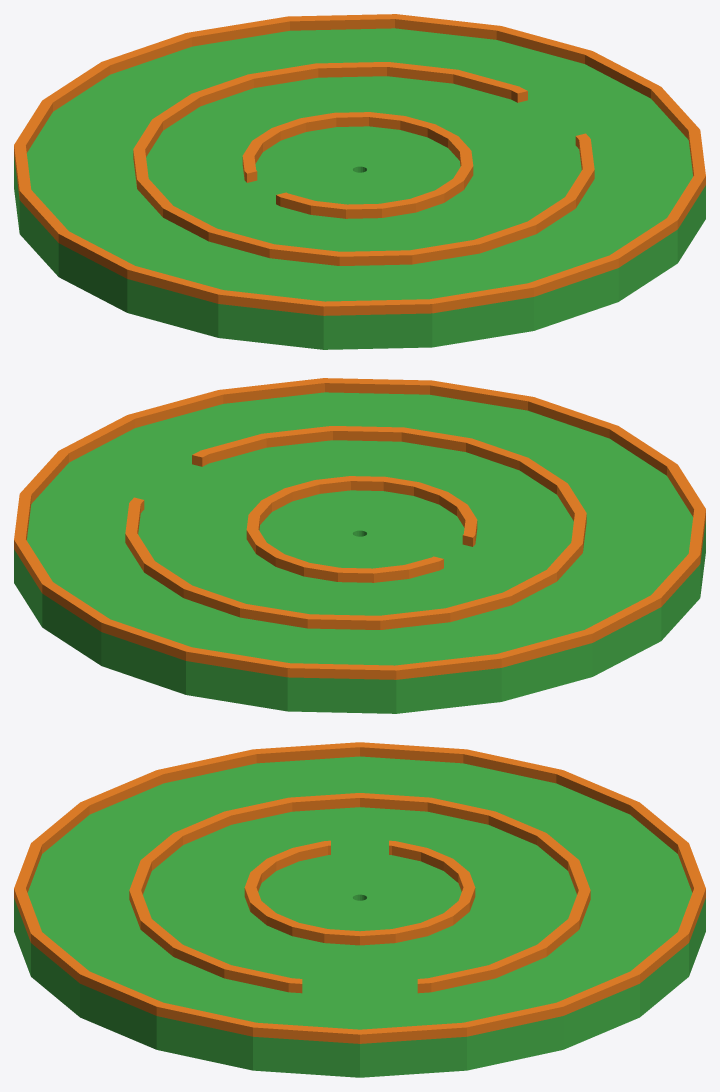
The model's file is tinker.obj.
The picture shows the model from 3 angles, top to bottom: view 1: azimuth 30°, elevation 25°; view 2: azimuth 150°, elevation 25°; view 3: azimuth 270°, elevation 25°; orthographic projection.
Visible parts, largest first — view 1: group_0_4634441, group_0_16089887; view 2: group_0_4634441, group_0_16089887; view 3: group_0_4634441, group_0_16089887.
Part boxes in pixels (left/top/right/bottom): group_0_4634441: left=14, top=28, right=705, bottom=349; group_0_16089887: left=14, top=14, right=705, bottom=315; group_0_4634441: left=14, top=392, right=705, bottom=713; group_0_16089887: left=14, top=378, right=705, bottom=679; group_0_4634441: left=14, top=756, right=705, bottom=1077; group_0_16089887: left=14, top=742, right=705, bottom=1043.
Bounding box in the file's own units: 120 × 8.26 × 120.
